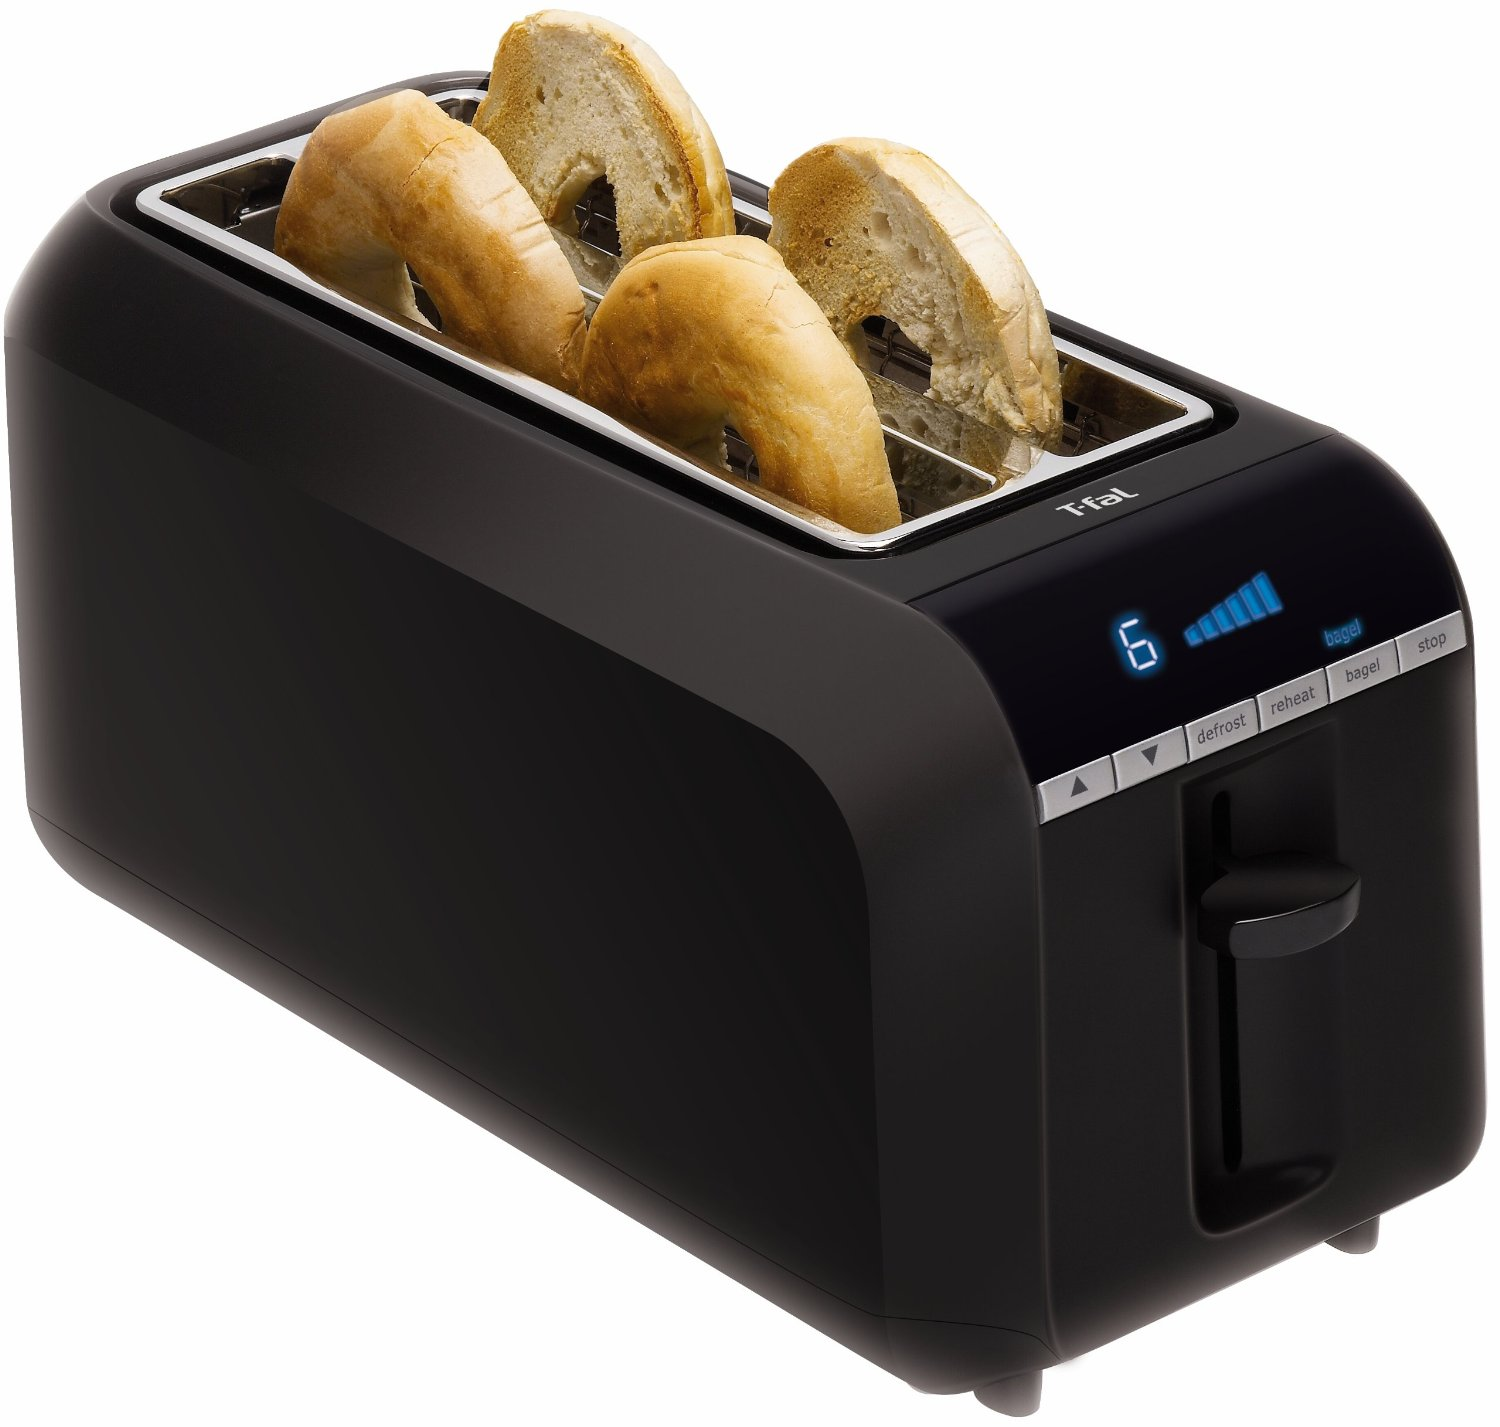slice of bread: (767, 126, 1085, 445), (558, 230, 883, 519), (242, 92, 557, 385), (459, 4, 745, 289)
